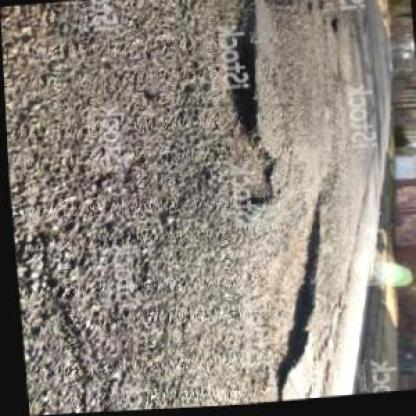pothole: (236, 200, 338, 400), (201, 0, 280, 218)
